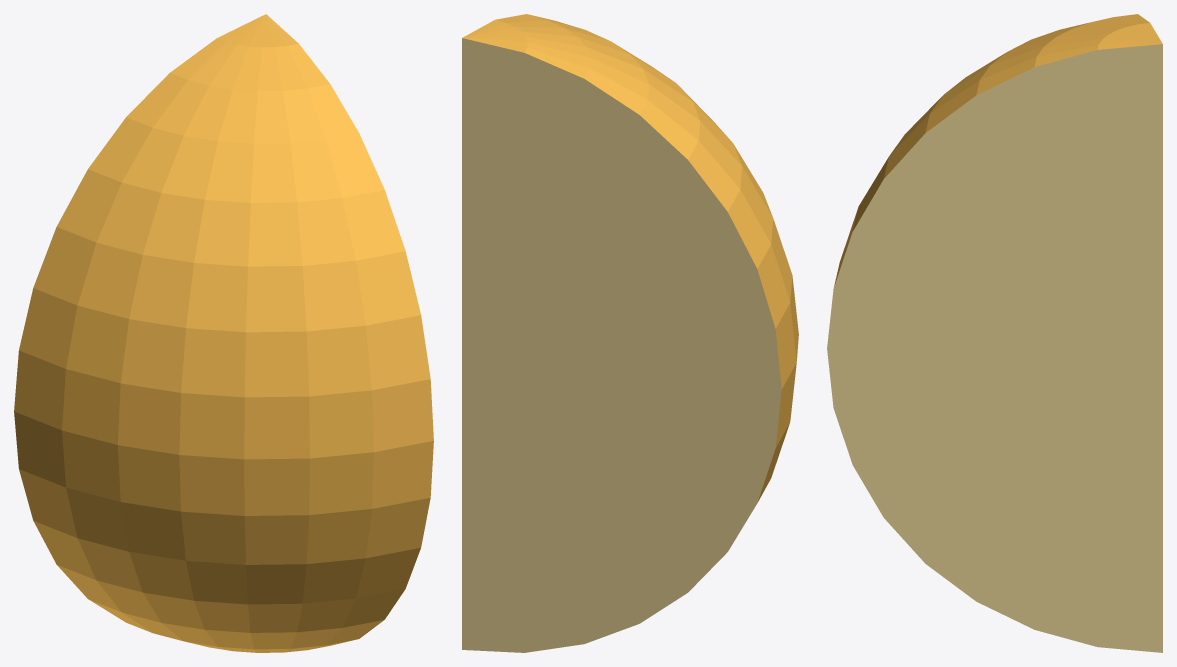
Rendered from Lime.fbx.
The picture shows the model from 3 angles, left to right: view 1: azimuth 30°, elevation 25°; view 2: azimuth 150°, elevation 25°; view 3: azimuth 270°, elevation 25°; orthographic projection.
Parts seen in each view (by area): view 1: Sphere; view 2: Sphere; view 3: Sphere.
Part boxes in pixels (<box>): Sphere: <box>14,14,433,652</box>; Sphere: <box>462,14,798,652</box>; Sphere: <box>827,14,1162,652</box>.
Size of the model in its own units: 98.08 by 200 by 100.
Materials: 1 (1 with a texture image).
